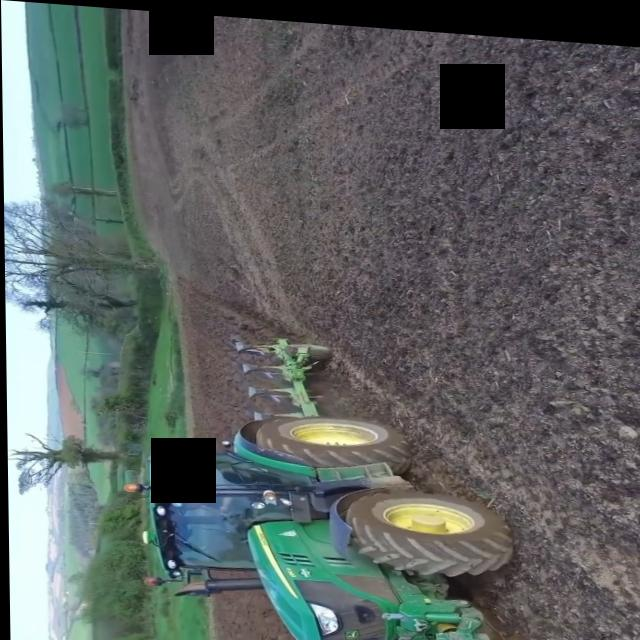Vehicle: (101, 322, 534, 640)
